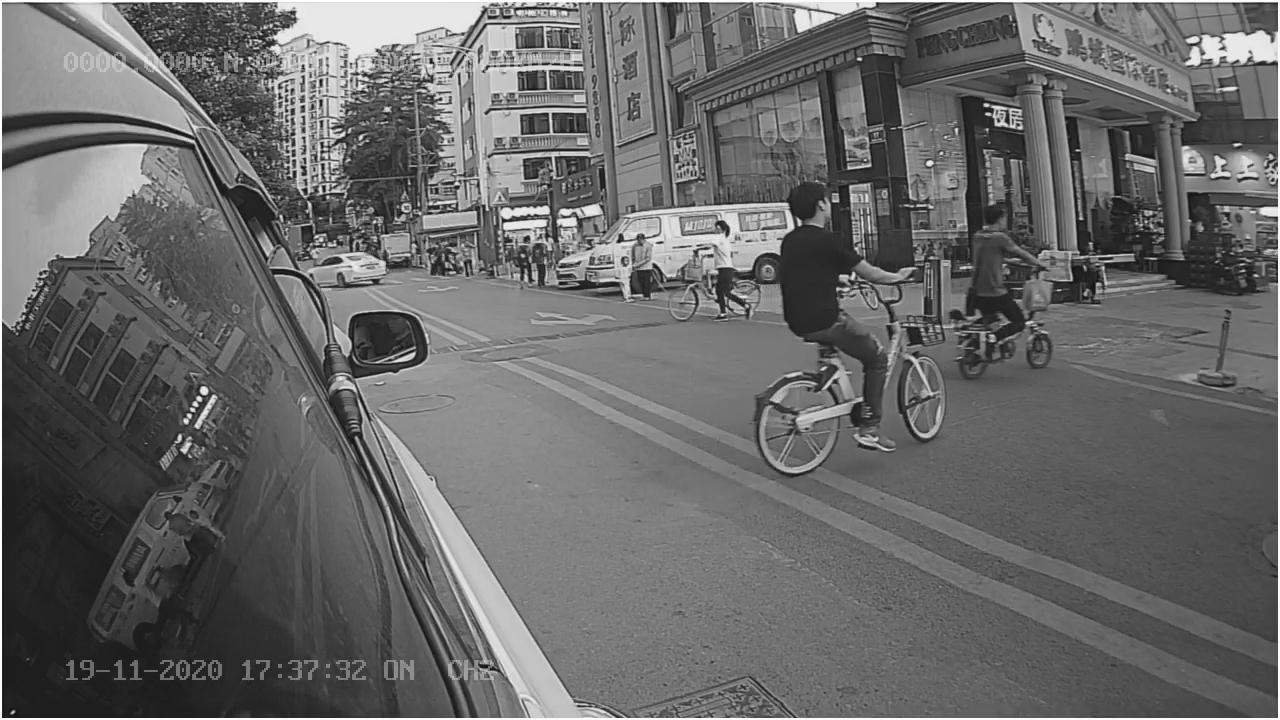person: (780, 187, 884, 344)
